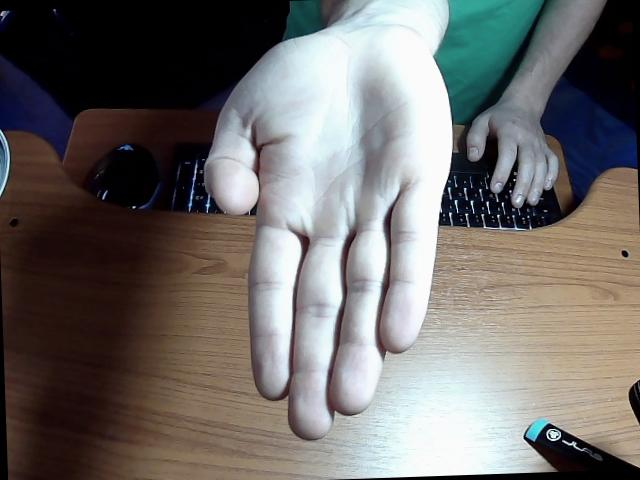paper: (205, 0, 606, 438)
